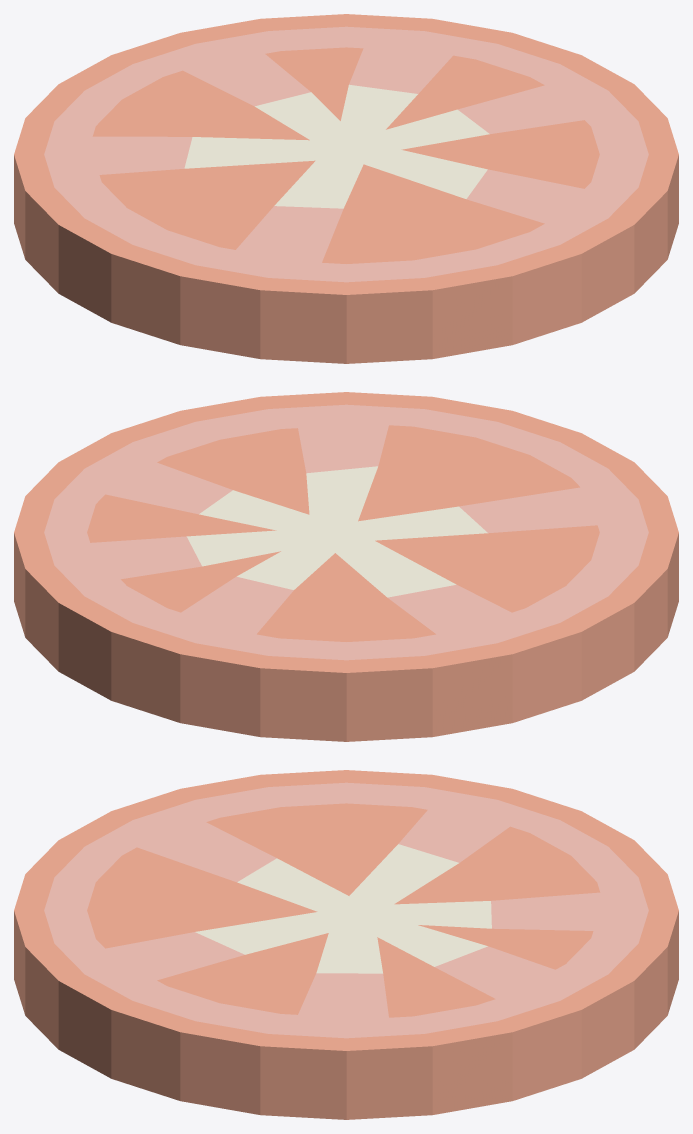
Rendered from Tomato Slice.fbx.
3 views of the same model, one above another, from view 1: azimuth 30°, elevation 25°; view 2: azimuth 150°, elevation 25°; view 3: azimuth 270°, elevation 25° (orthographic).
Visible parts, largest first — view 1: Tomato Slice; view 2: Tomato Slice; view 3: Tomato Slice.
Part boxes in pixels (bbox=[...]): Tomato Slice: bbox=[14, 14, 678, 363]; Tomato Slice: bbox=[14, 392, 678, 741]; Tomato Slice: bbox=[14, 770, 678, 1119].
Size of the model in its own units: 0.0787 by 0.009 by 0.0787.
